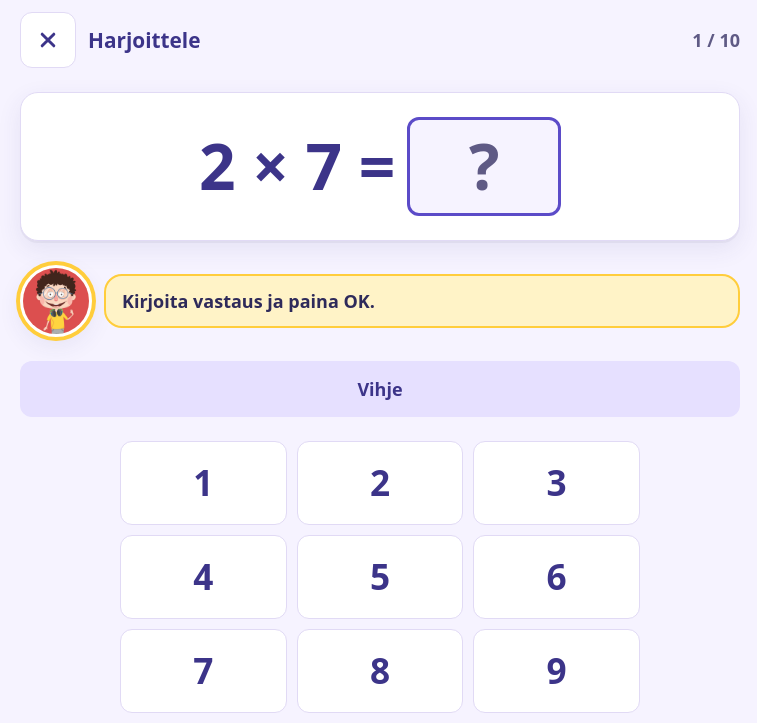
Practice › gives up to three hints
What coordinates should you click on to do the following:
click the button "Vihje"
I would click on:
 (380, 389)
Its box is [20,361,740,417].
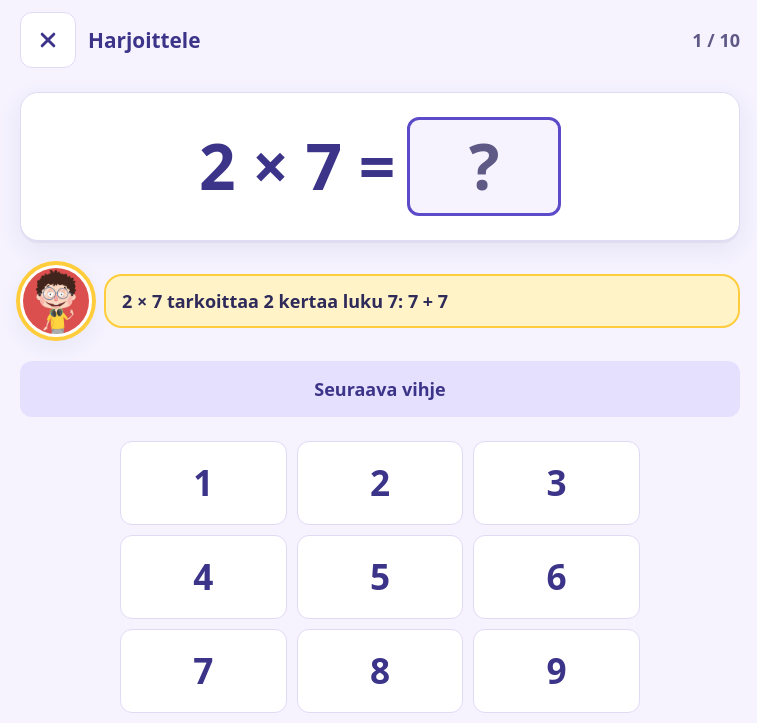
Expected: the text "2 × 7 tarkoittaa 2 kertaa luku 7: 7 + 7" is shown, [122,289,448,313]
What coordinates should you click on to do the following:
click the button "Seuraava vihje"
I would click on:
 (380, 389)
Its box is [20,361,740,417].
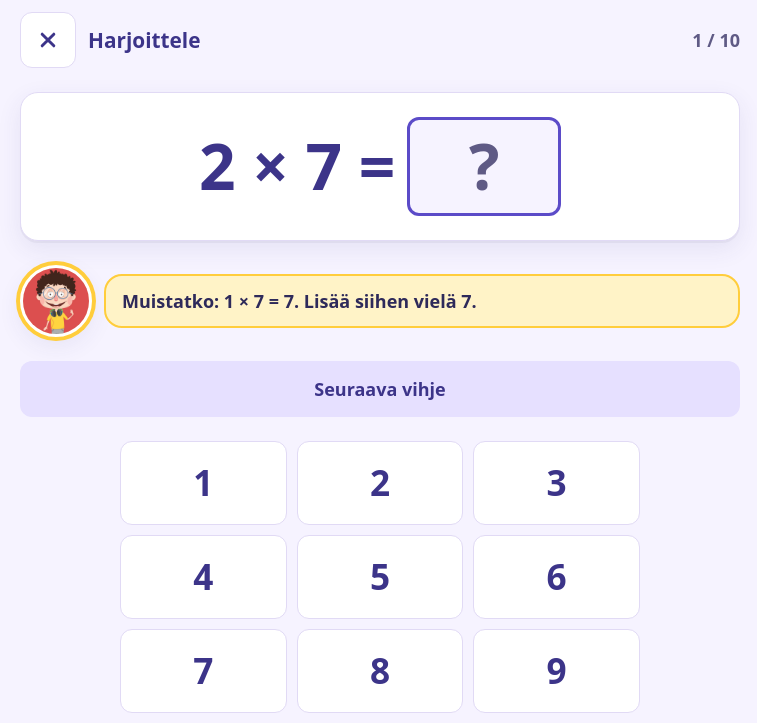
Expected: the text "Muistatko: 1 × 7 = 7. Lisää siihen vielä 7." is shown, [122,289,477,313]
What coordinates should you click on to do the following:
click the button "Seuraava vihje"
I would click on:
 (380, 389)
Its box is [20,361,740,417].
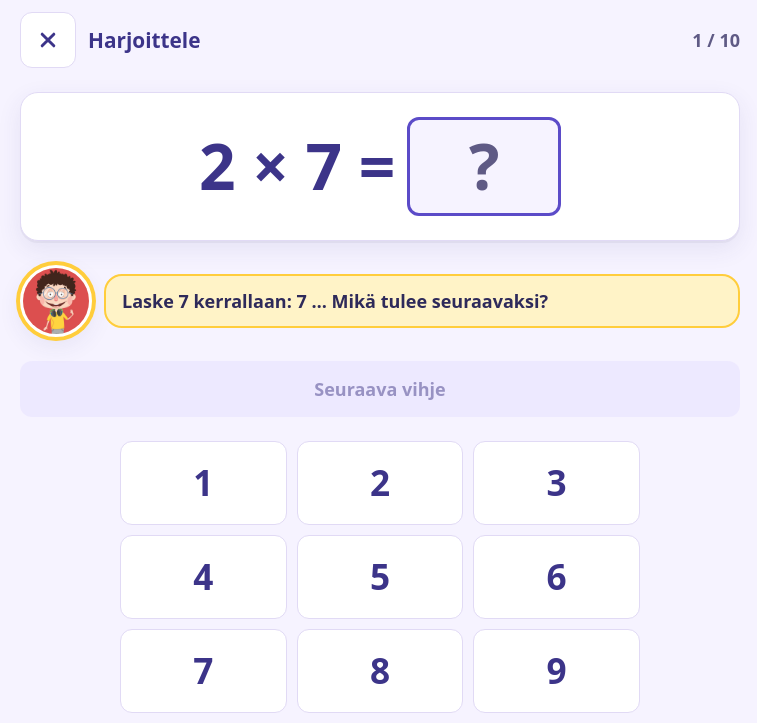
Expected: the text "Laske 7 kerrallaan: 7 … Mikä tulee seuraavaksi?" is shown, [122,289,548,313]
Expected: the button "Seuraava vihje" is disabled, [20,361,740,417]
